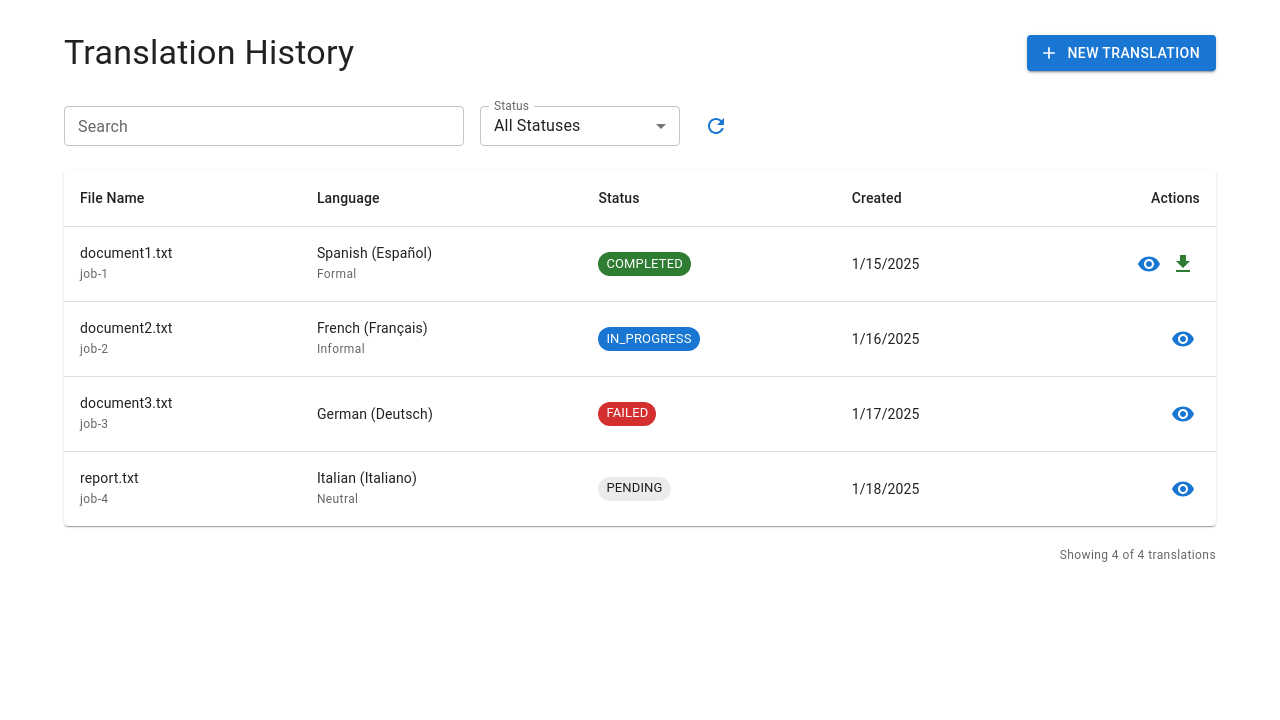
Scenario: TranslationHistory › Filtering › should reset filter when selecting All Statuses
Expected: the text "document1.txt" is shown, top-left (80, 245), bottom-right (173, 261)
# Filter by COMPLETED
Click the dropdown labelled "All Statuses": (537, 126) top-left (494, 116), bottom-right (580, 136)
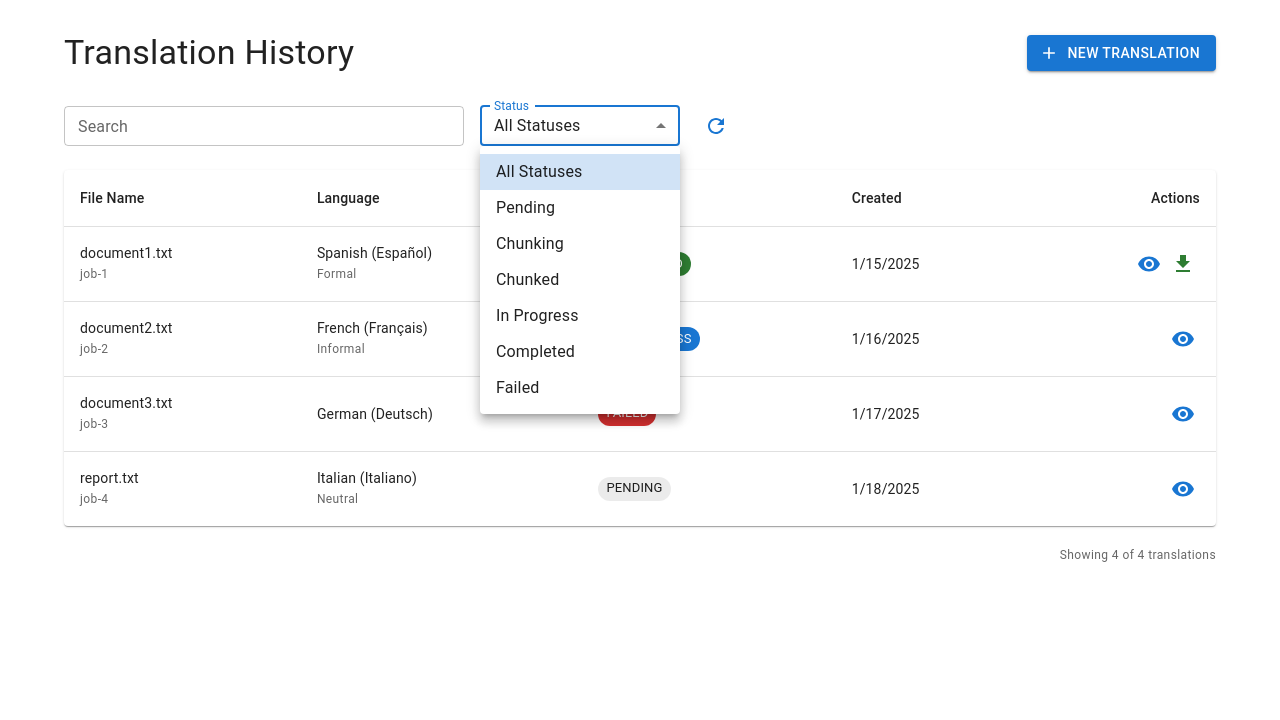
Click the option "Completed": (536, 352) top-left (496, 342), bottom-right (575, 361)
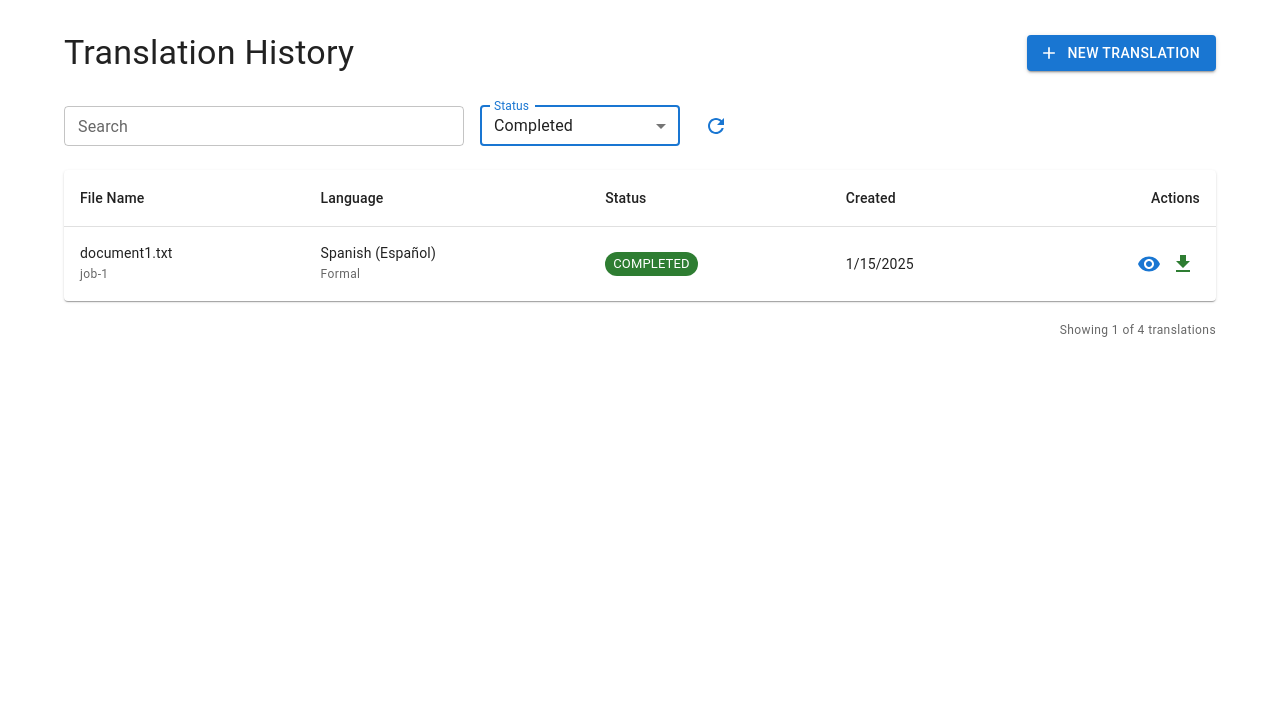
Expected: the text "document2.txt" is gone
# Reset to All Statuses
Click the dropdown named "Status": (534, 126) top-left (494, 116), bottom-right (573, 136)
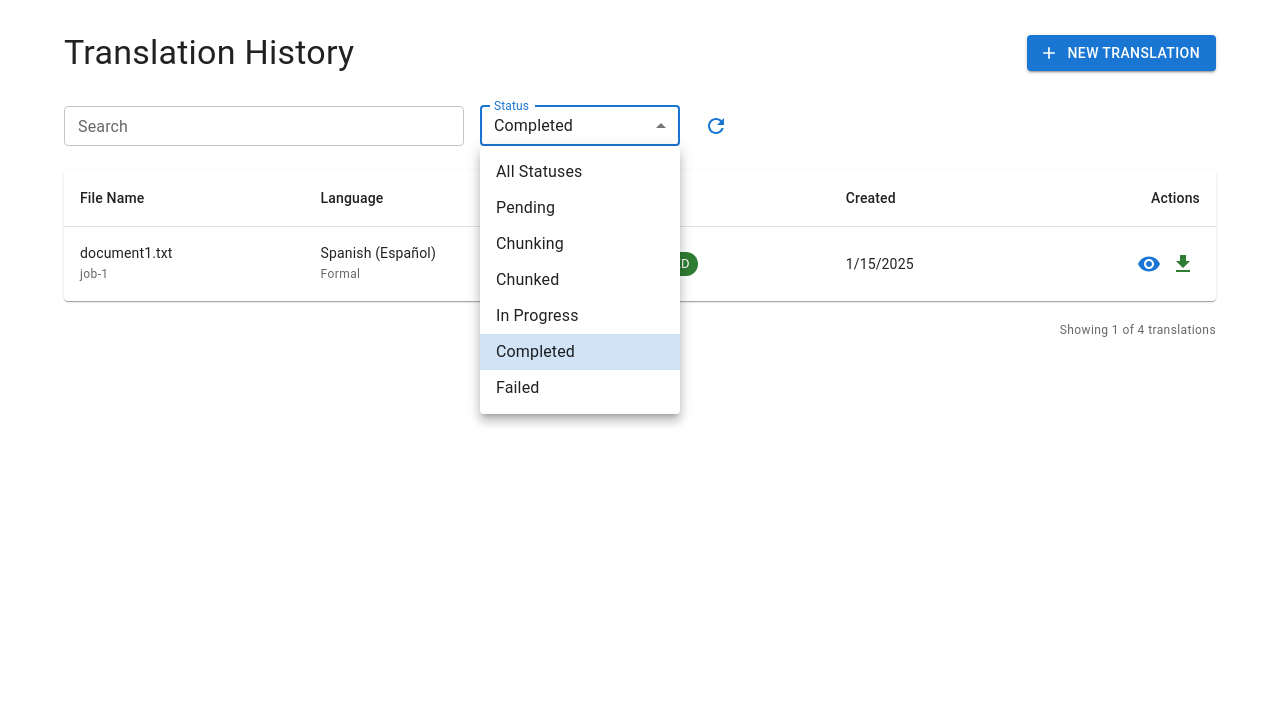
Click the option "All Statuses": (539, 172) top-left (496, 162), bottom-right (582, 181)
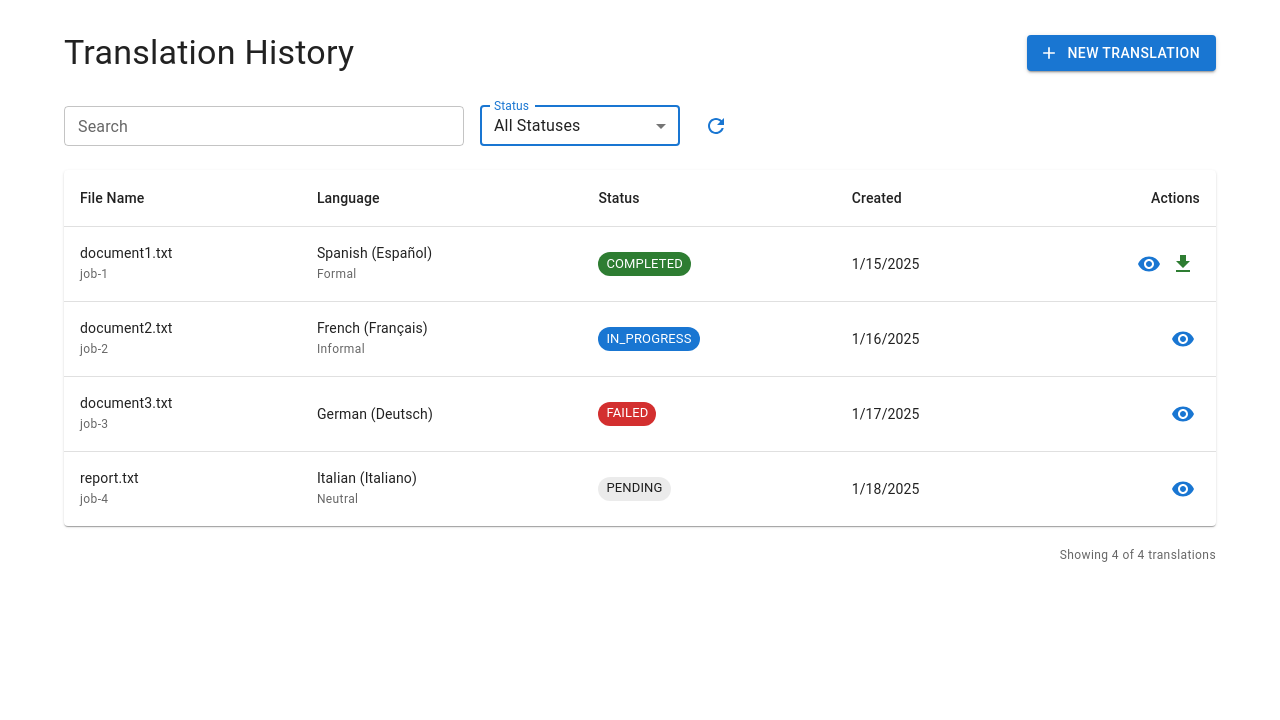
Expected: the text "document2.txt" is shown, top-left (80, 320), bottom-right (173, 336)
Expected: the text "document3.txt" is shown, top-left (80, 395), bottom-right (173, 411)
Expected: the text "report.txt" is shown, top-left (80, 470), bottom-right (139, 486)
